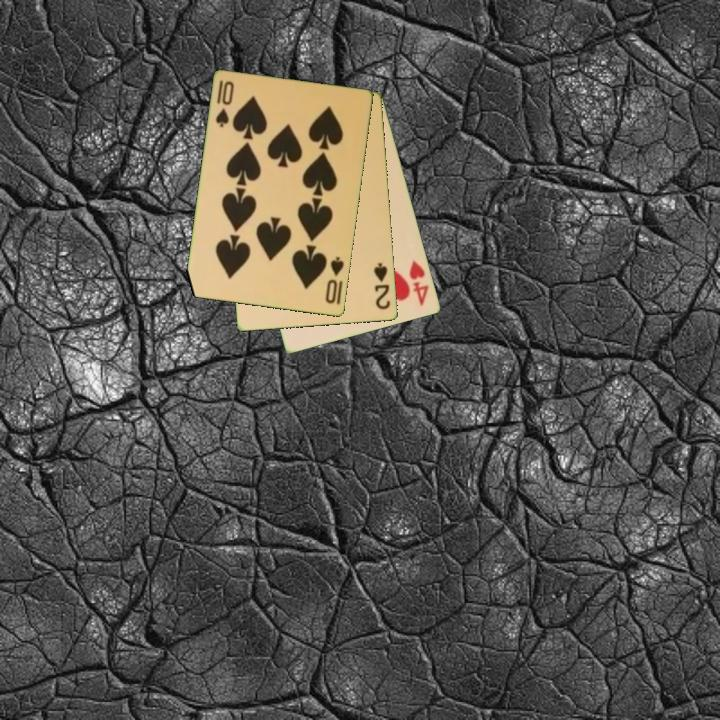10s: (322, 253, 347, 307), (212, 77, 237, 131)
2s: (371, 259, 393, 313)
4h: (406, 257, 432, 309)
